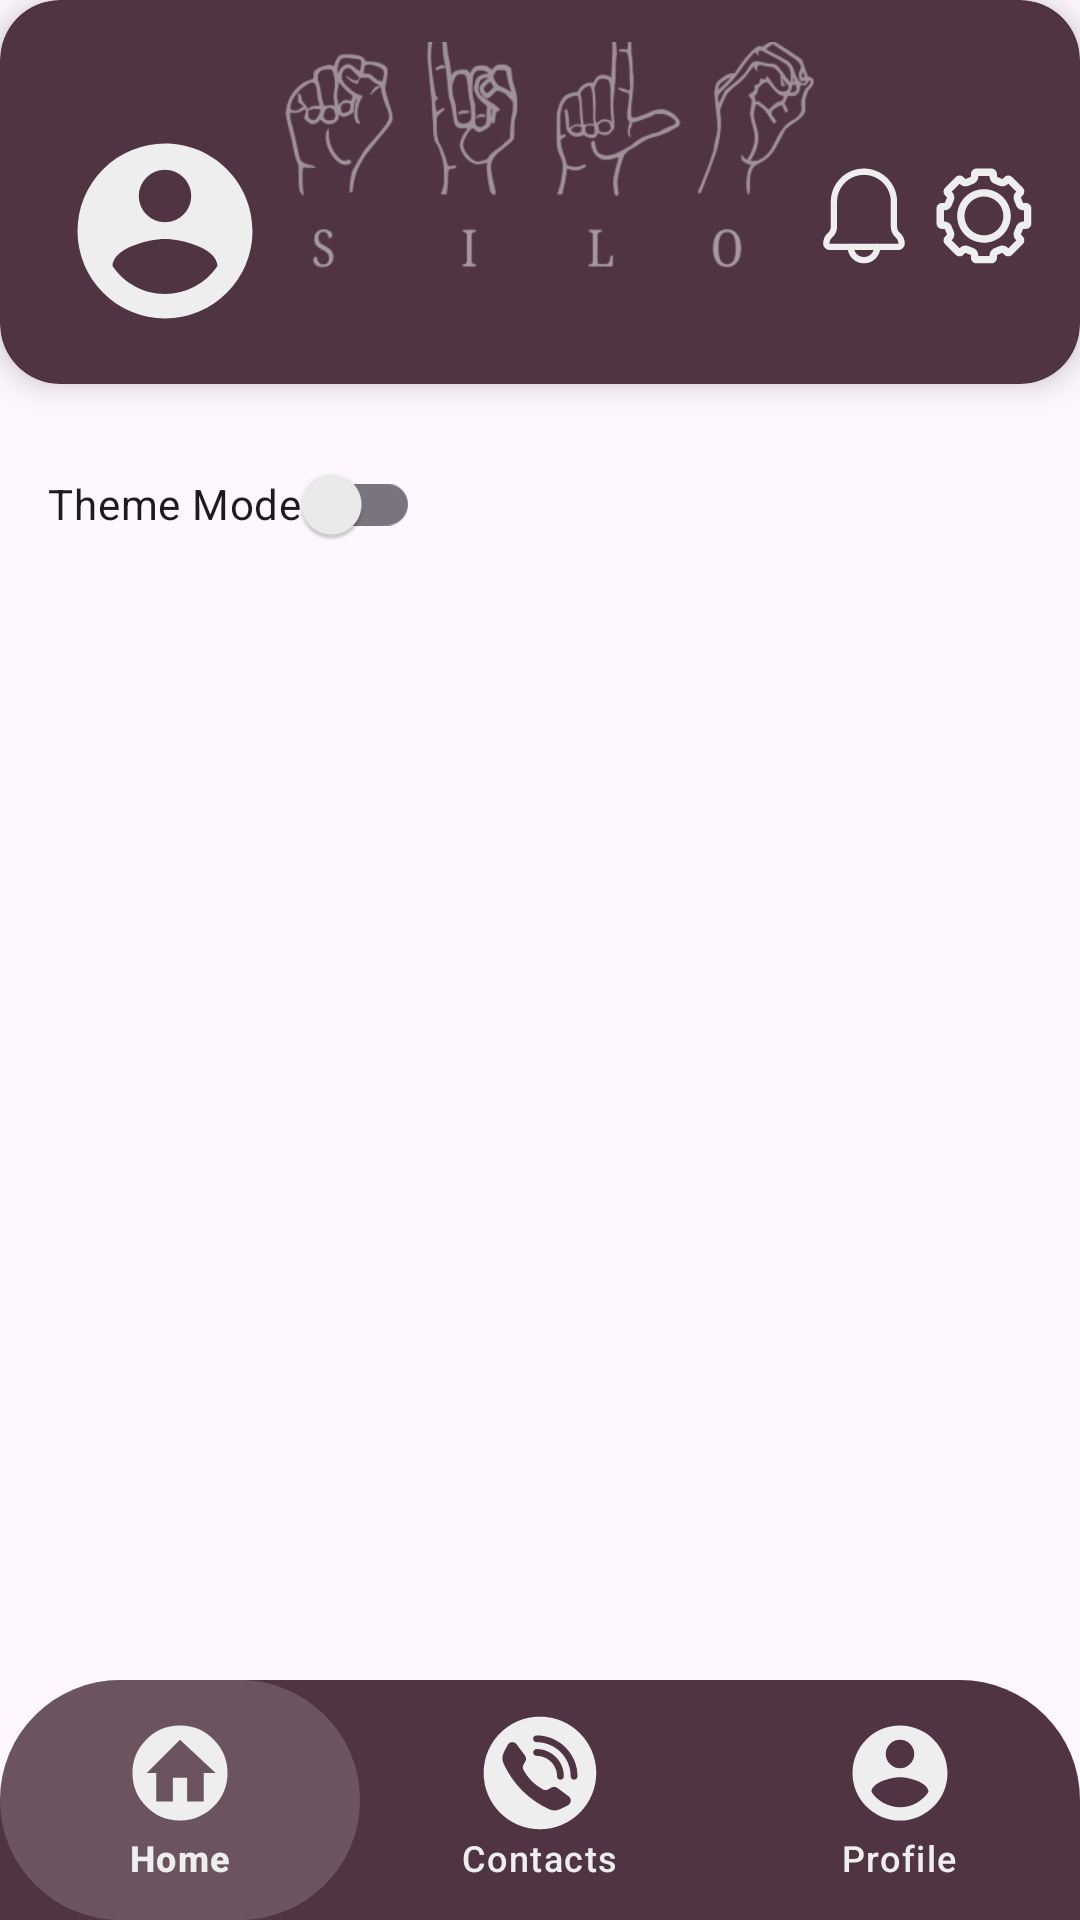

Locate icon controls on the screen. Image size 1080x1920, boxes as rect(x1, y1, x2, y2).
Notification Icon: rect(823, 168, 905, 264)
Settings Icon: rect(936, 168, 1032, 264)
user photo: rect(77, 143, 253, 319)
